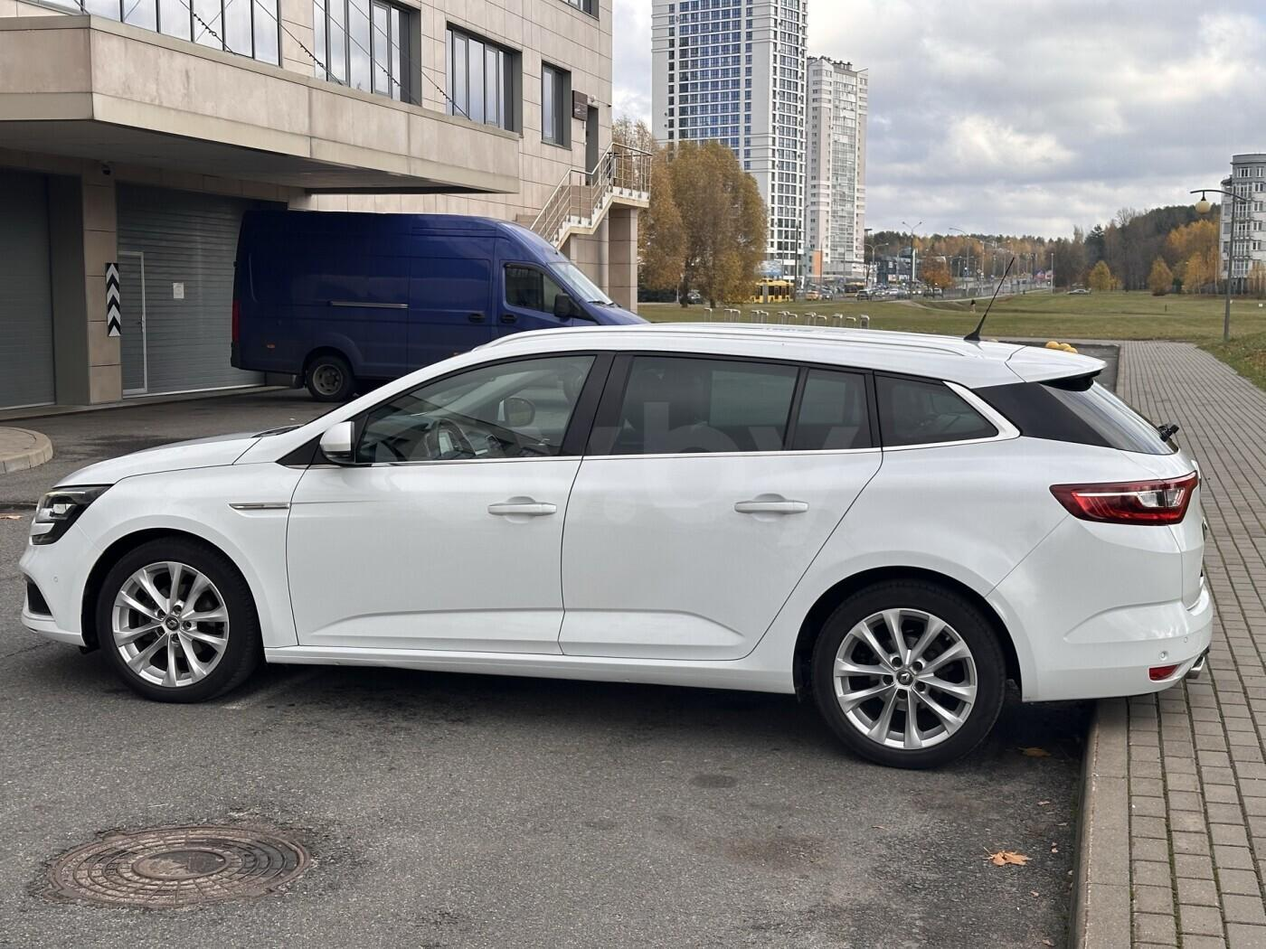Megane_2016-2020: (4, 320, 1221, 768)
